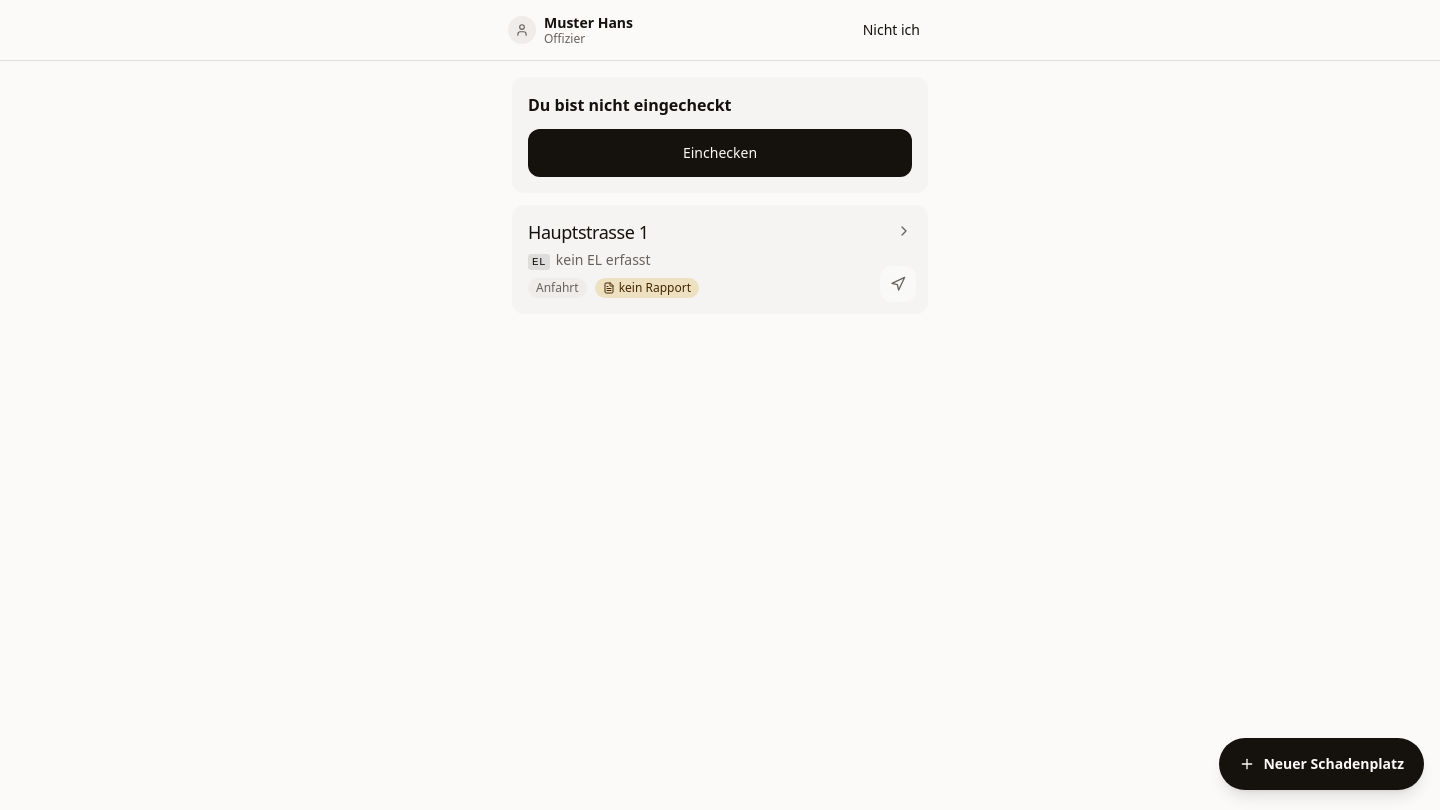
/feld handing the phone to someone else › requires a fresh link after revoking a bound QR credential
Click the button "Nicht ich" at (891, 30), box [851,8,932,52]
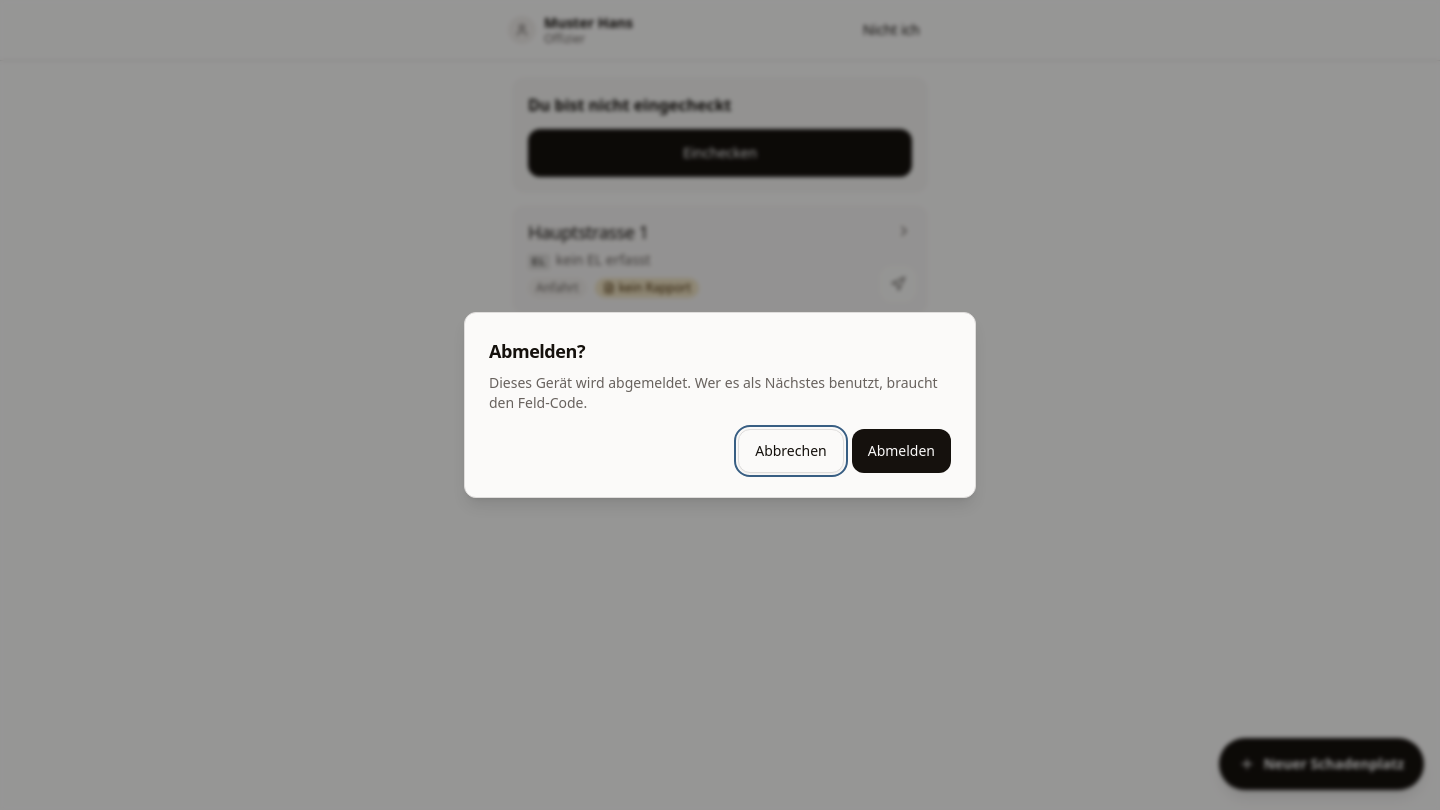
Click the button "Abmelden" at (901, 451), box [852,429,951,473]
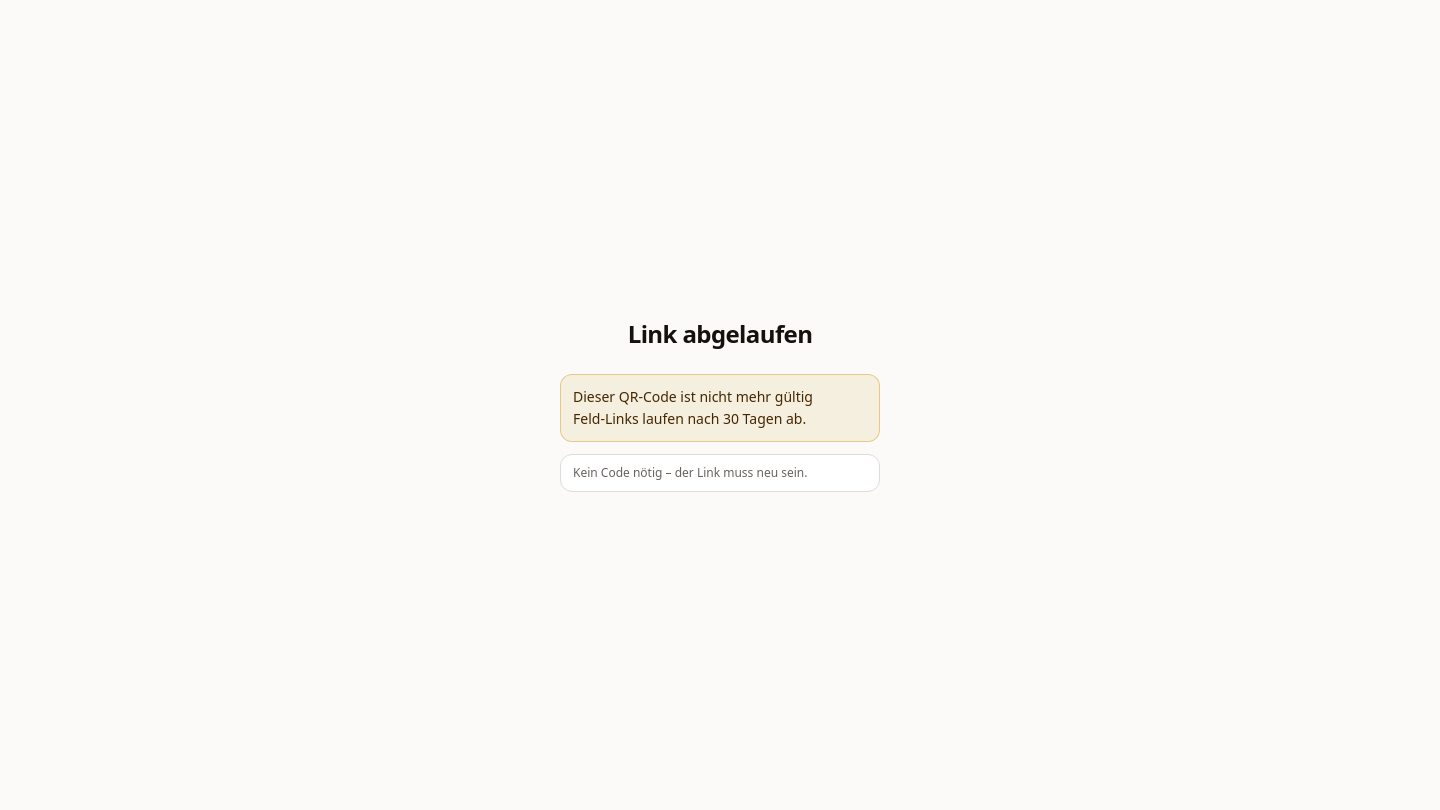
Expected: the heading "Link abgelaufen" is shown, [628,317,812,350]
